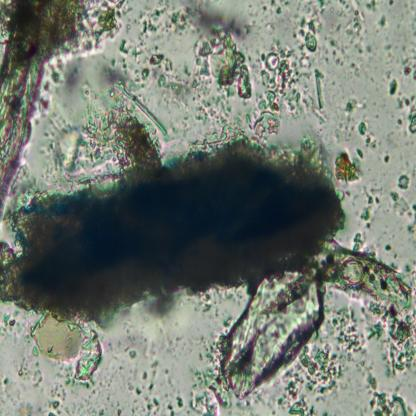Background material: (209, 242, 410, 392), (273, 307, 360, 414), (79, 81, 168, 171), (259, 18, 326, 118), (189, 1, 250, 108), (128, 0, 190, 101), (25, 314, 103, 384), (188, 106, 279, 158), (187, 330, 236, 416), (48, 52, 128, 104), (362, 303, 416, 376), (40, 110, 93, 179), (58, 4, 128, 54), (133, 356, 185, 416), (335, 2, 377, 70), (366, 375, 412, 416), (332, 100, 359, 148), (331, 145, 365, 183), (385, 171, 411, 216), (106, 324, 142, 356), (359, 188, 382, 228), (396, 93, 416, 136), (395, 54, 416, 89), (46, 384, 66, 416), (0, 315, 25, 340), (306, 2, 332, 26), (356, 121, 378, 149), (260, 0, 285, 15), (387, 75, 399, 98), (356, 231, 366, 249), (379, 15, 392, 27), (382, 242, 394, 251), (382, 155, 394, 163), (388, 0, 396, 6)
Cellulose filter fibre: (0, 0, 63, 224)
Fragment: (6, 142, 346, 316)
